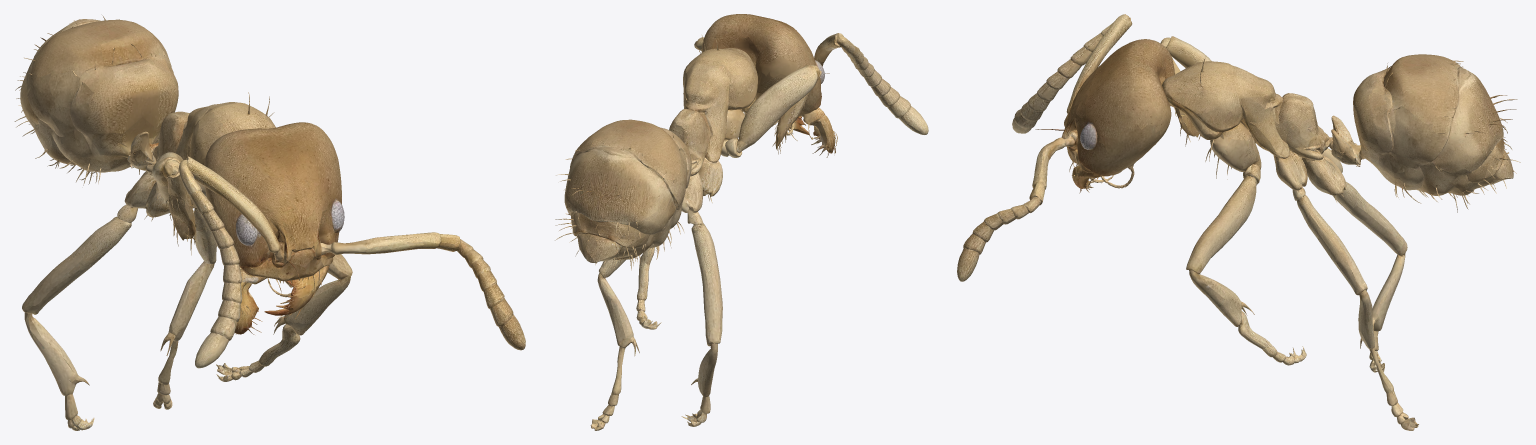
File: esp6.glb
3 views of the same model, side by side, from view 1: azimuth 30°, elevation 25°; view 2: azimuth 150°, elevation 25°; view 3: azimuth 270°, elevation 25° (orthographic). The views are drawn at different scales.
Visible parts, largest first — view 1: output_unwrapped; view 2: output_unwrapped; view 3: output_unwrapped.
Boxes of the visible parts, x1,y1,x2,y2 form: output_unwrapped: (14,15,525,430); output_unwrapped: (555,14,928,430); output_unwrapped: (957,14,1520,430).
Size of the model in its own units: 1.03 by 1.35 by 1.91.
1 material, 1 textured.
